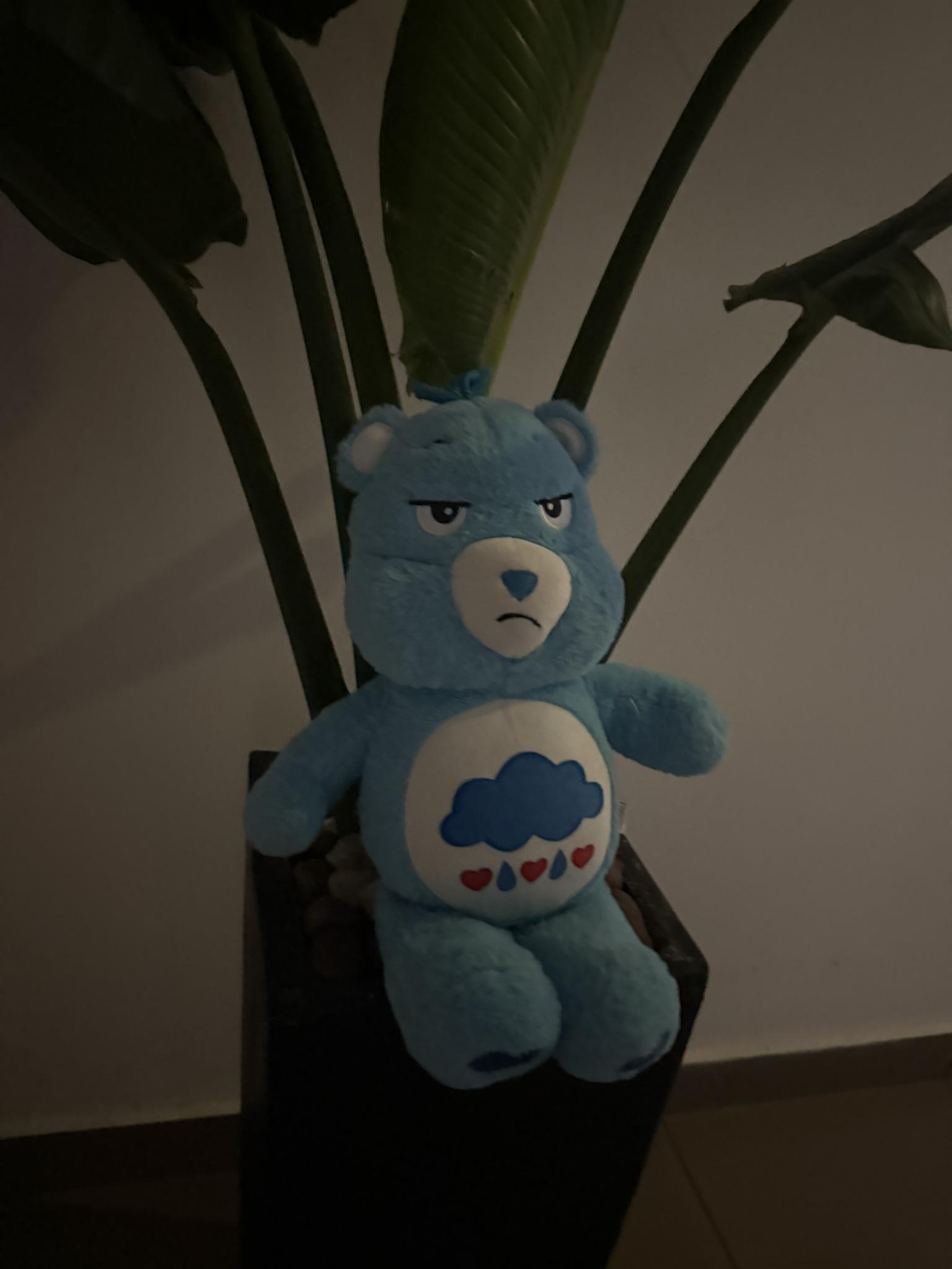peluche_Juan Jose: (236, 378, 736, 1100)
